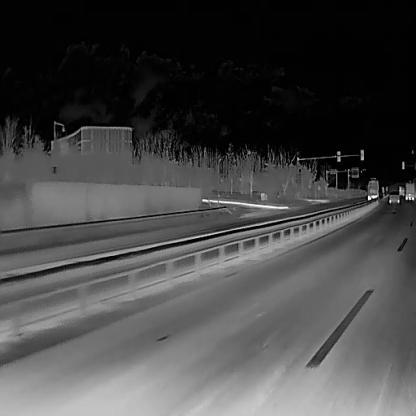car: (366, 176, 379, 201), (404, 182, 415, 200), (387, 189, 400, 203), (397, 185, 404, 197)
